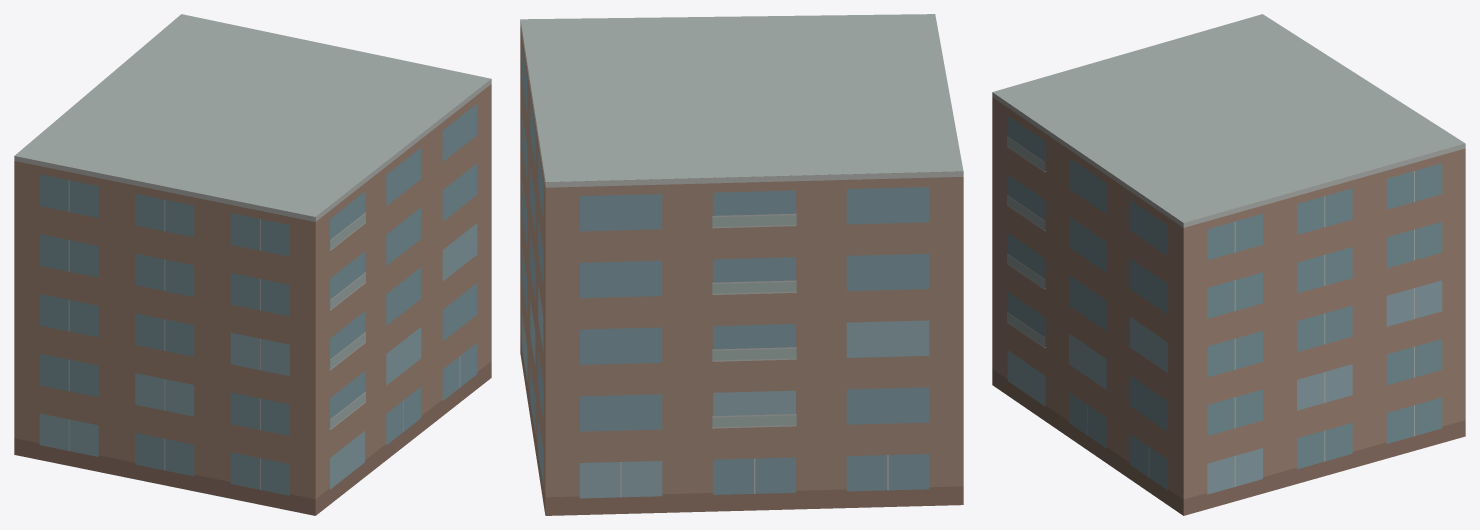
File: survey-upis-32823631.glb
3 views of the same model, side by side, from view 1: azimuth 30°, elevation 25°; view 2: azimuth 150°, elevation 25°; view 3: azimuth 270°, elevation 25° (orthographic). The views are drawn at different scales.
Visible parts, largest first — view 1: survey-upis-32823631.tmp; view 2: survey-upis-32823631.tmp; view 3: survey-upis-32823631.tmp.
Part boxes in pixels (<box>): survey-upis-32823631.tmp: <box>14,14,491,515</box>; survey-upis-32823631.tmp: <box>520,14,963,515</box>; survey-upis-32823631.tmp: <box>992,14,1465,515</box>.
Bounding box in the file's own units: 22.35 × 14.6 × 21.4.
